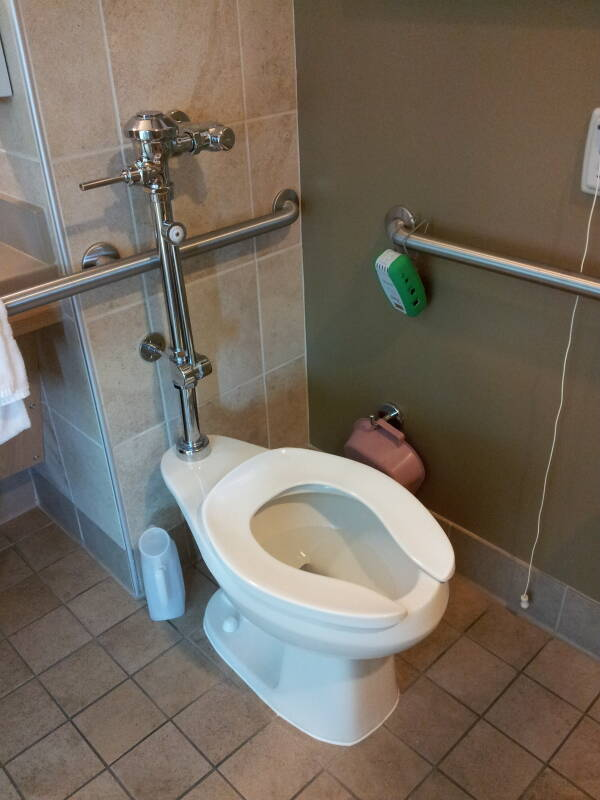restroom_assist_bar: (1, 186, 302, 318), (382, 201, 599, 303)
toilet: (159, 265, 452, 749)
toilet_handle: (73, 167, 145, 192)
